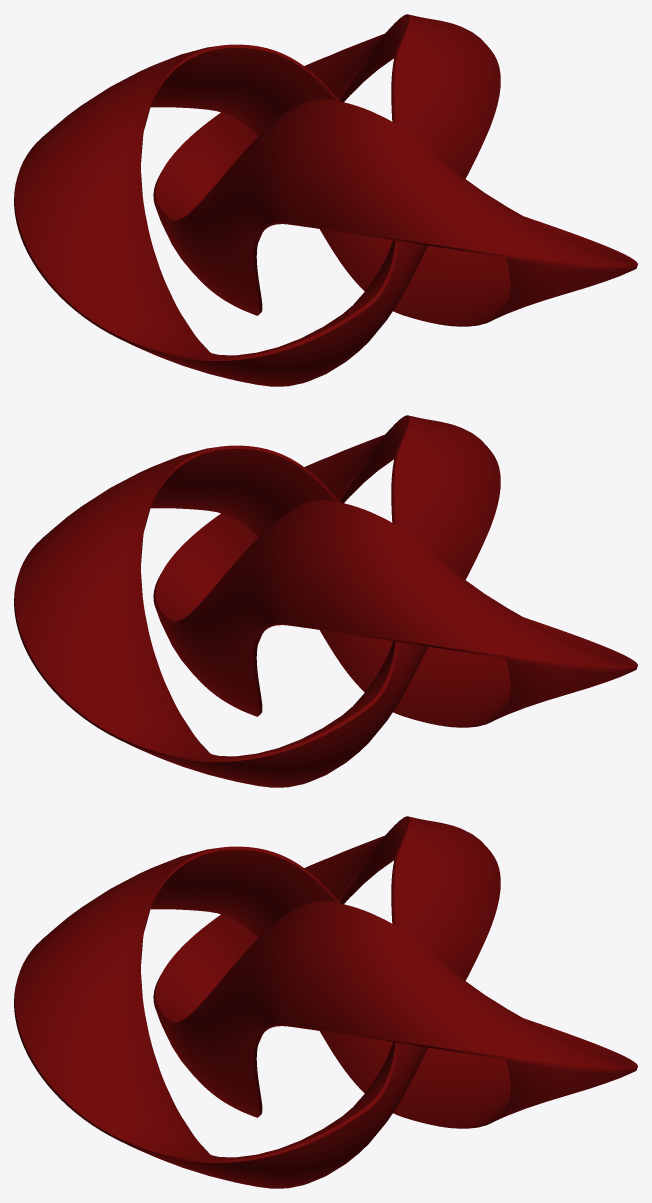
The model's file is timelessness.obj.
3 views of the same model, one above another, from view 1: azimuth 30°, elevation 25°; view 2: azimuth 150°, elevation 25°; view 3: azimuth 270°, elevation 25° (orthographic).
Parts seen in each view (by area): view 1: __1_solid1; view 2: __1_solid1; view 3: __1_solid1.
Part boxes in pixels (x1,y1,x2,y2): __1_solid1: (14,14,637,386); __1_solid1: (14,415,637,787); __1_solid1: (14,816,637,1188).
Size of the model in its own units: 1.4 by 0.7324 by 1.49.
